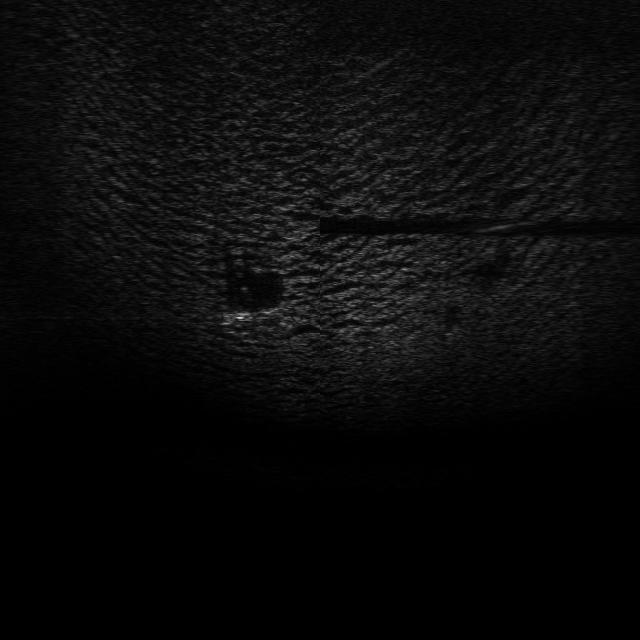plane: (220, 302, 280, 331)
